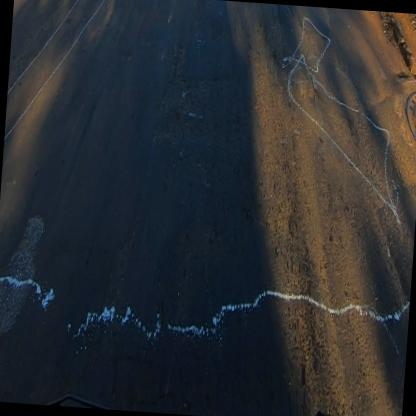manholes: (400, 81, 416, 157)
